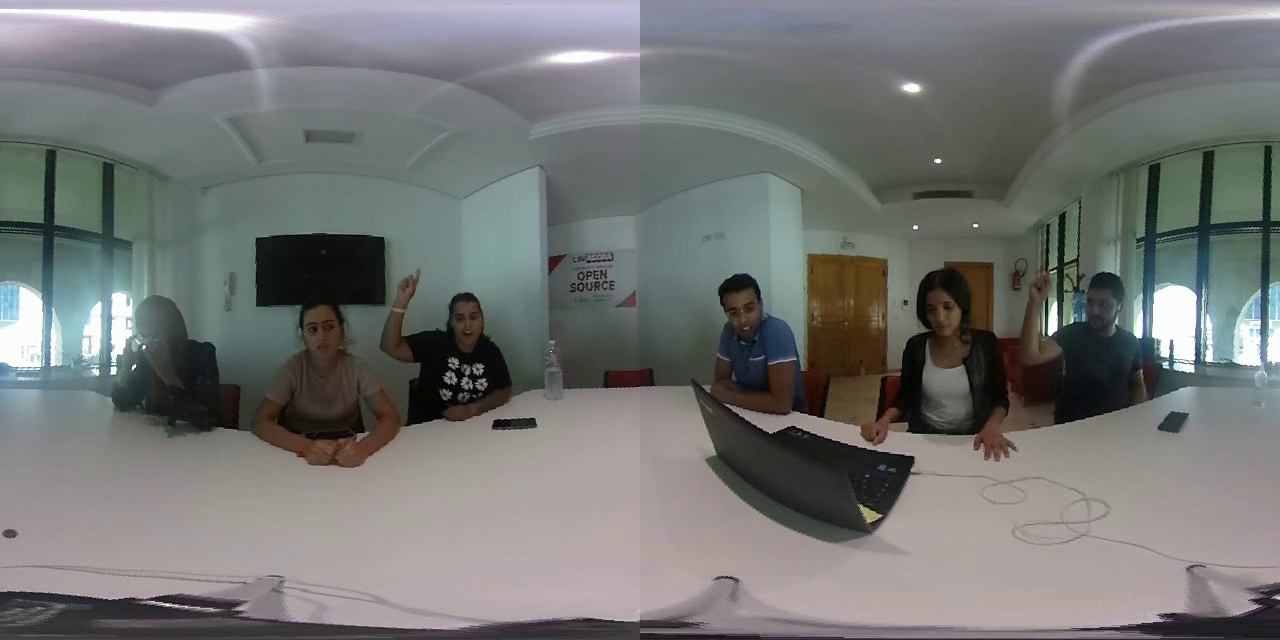hand_up: (383, 265, 430, 375), (1019, 261, 1060, 379)
person: (860, 262, 1017, 454), (240, 298, 408, 475), (382, 268, 519, 425), (1018, 268, 1159, 414), (694, 259, 812, 430), (100, 293, 231, 435)
